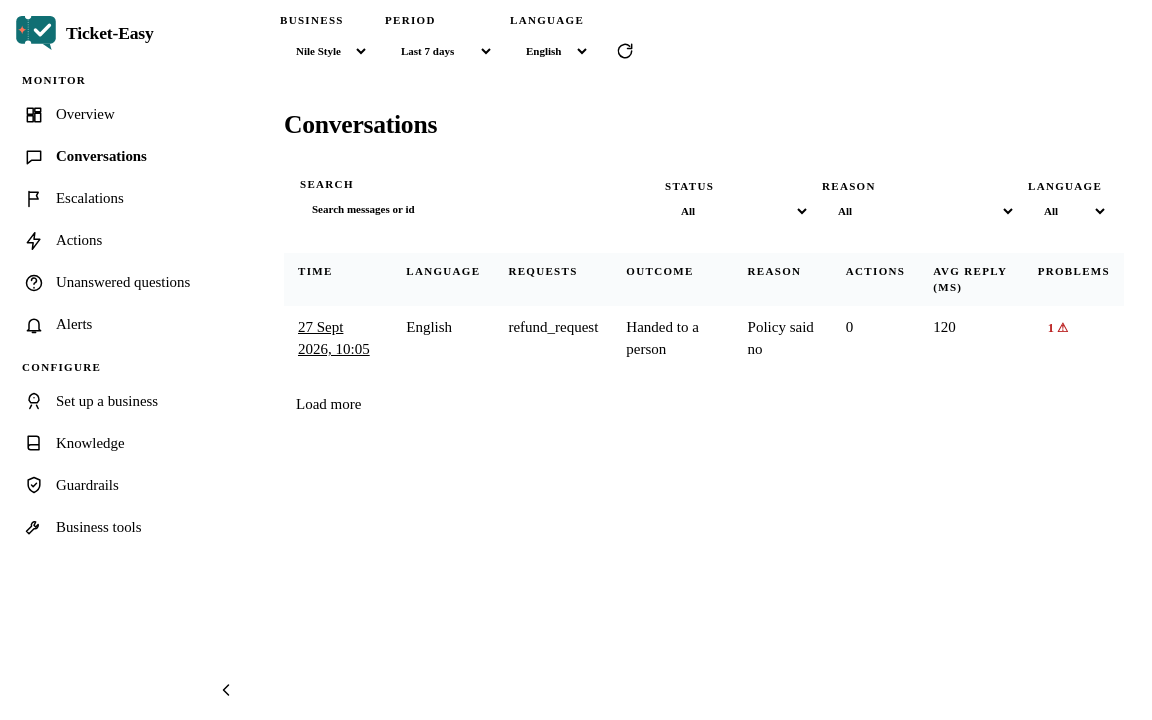
conversations › loads the next page and shows an error if that fails
Click the button "Load more" at coordinates (329, 404), box top-left (284, 386), bottom-right (373, 422)
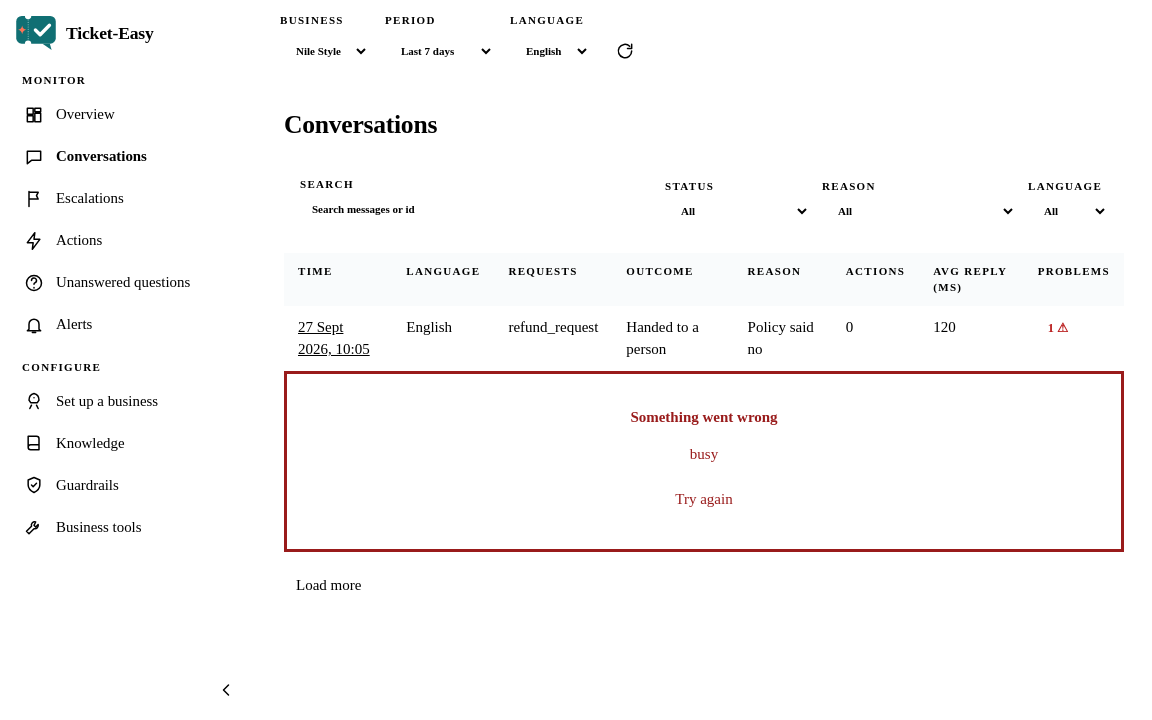
Result: the message shows "busy" at top-left (690, 446), bottom-right (718, 462)
Click the button "Try again" at coordinates (704, 499), box top-left (663, 481), bottom-right (745, 517)
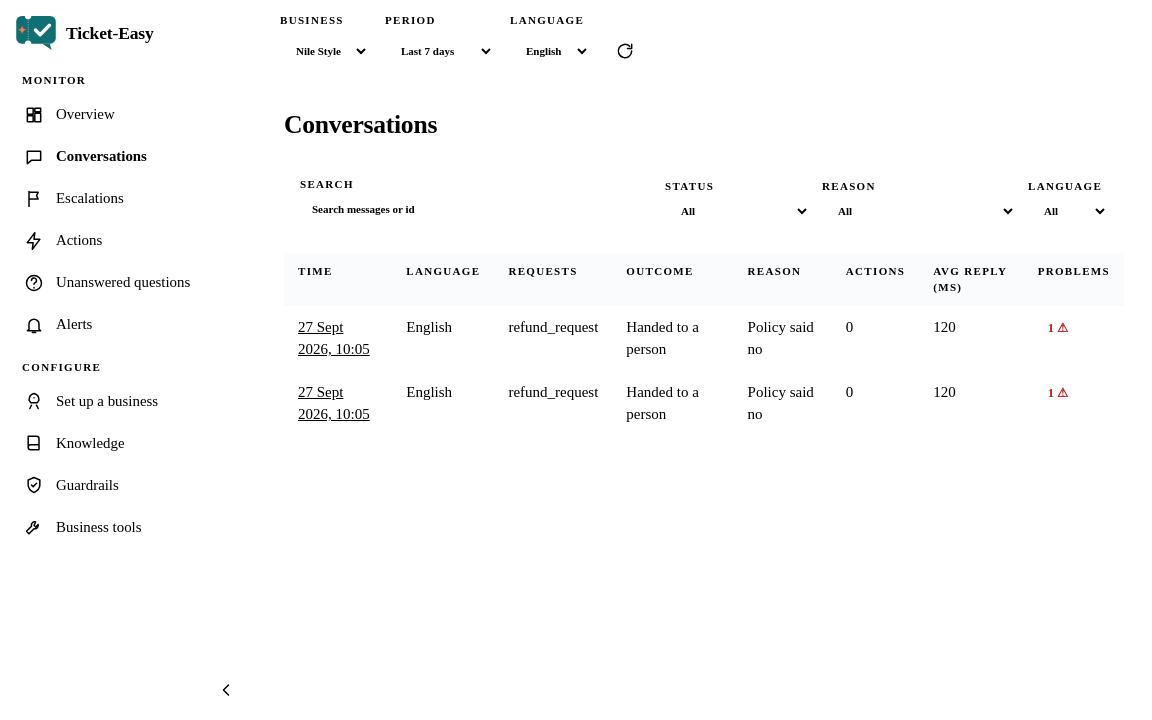
Result: the number of rows is 3 at top-left (284, 253), bottom-right (1124, 306); top-left (284, 306), bottom-right (1124, 371); top-left (284, 371), bottom-right (1124, 436)
Result: the button "Load more" is gone
